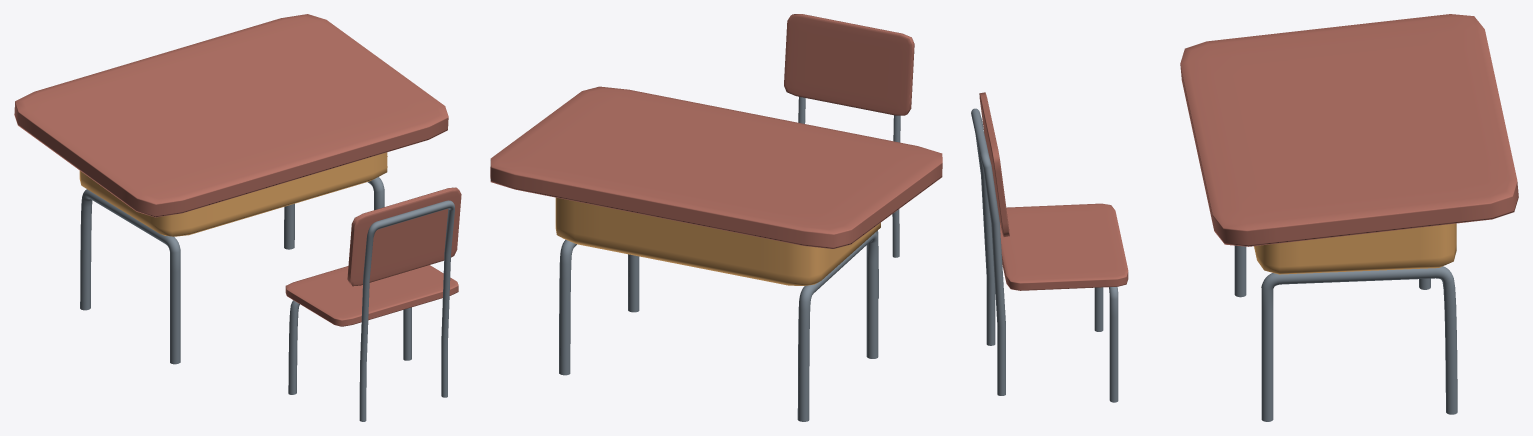
Rendered from zhuozi.fbx.
The picture shows the model from 3 angles, left to right: view 1: azimuth 30°, elevation 25°; view 2: azimuth 150°, elevation 25°; view 3: azimuth 270°, elevation 25°; orthographic projection. The views are drawn at different scales.
Parts seen in each view (by area): view 1: group51_Box012; view 2: group51_Box012; view 3: group51_Box012.
Boxes of the visible parts, <box> form: group51_Box012: <box>14,14,461,421</box>; group51_Box012: <box>490,14,942,421</box>; group51_Box012: <box>971,14,1518,421</box>.
Size of the model in its own units: 48.54 by 28.4 by 56.79.
